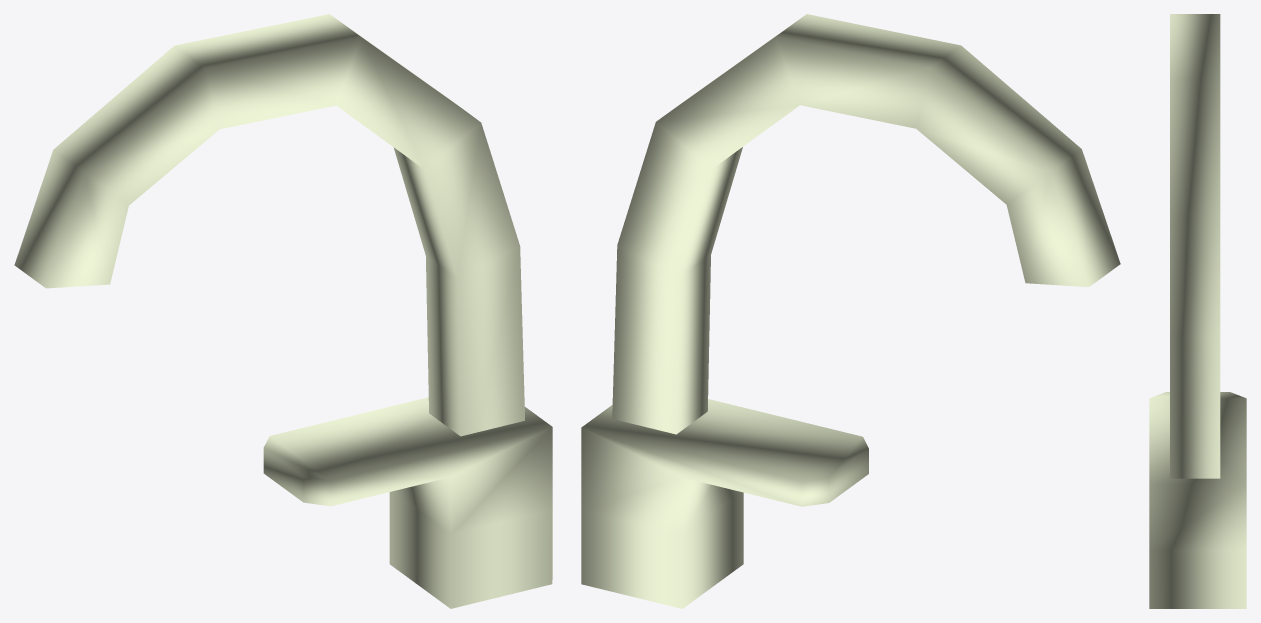
File: hotl_kitchen_faucet.FBX
The picture shows the model from 3 angles, left to right: view 1: azimuth 30°, elevation 25°; view 2: azimuth 150°, elevation 25°; view 3: azimuth 270°, elevation 25°; orthographic projection. The views are drawn at different scales.
Parts seen in each view (by area): view 1: kitchen_faucet; view 2: kitchen_faucet; view 3: kitchen_faucet.
Boxes of the visible parts, bbox=[...] form: kitchen_faucet: bbox=[14, 14, 552, 608]; kitchen_faucet: bbox=[581, 14, 1120, 608]; kitchen_faucet: bbox=[1149, 14, 1246, 608].
Size of the model in its own units: 0.3222 by 0.3664 by 0.0694.
